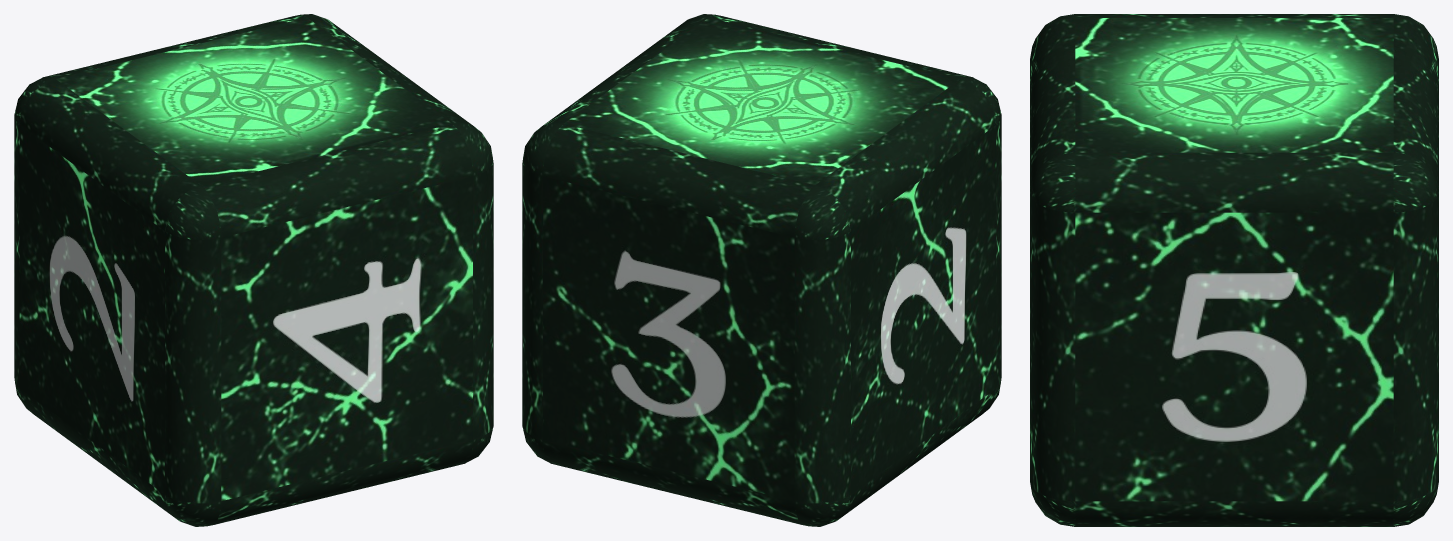
The model's file is d6_path_life.glb.
3 views of the same model, side by side, from view 1: azimuth 30°, elevation 25°; view 2: azimuth 150°, elevation 25°; view 3: azimuth 270°, elevation 25° (orthographic). The views are drawn at different scales.
Parts seen in each view (by area): view 1: d6; view 2: d6; view 3: d6.
Boxes of the visible parts, bbox=[...] form: d6: bbox=[14, 14, 493, 526]; d6: bbox=[522, 14, 1001, 526]; d6: bbox=[1030, 14, 1438, 526].
Size of the model in its own units: 104 by 104 by 104.
Materials: 1 (1 with a texture image).
